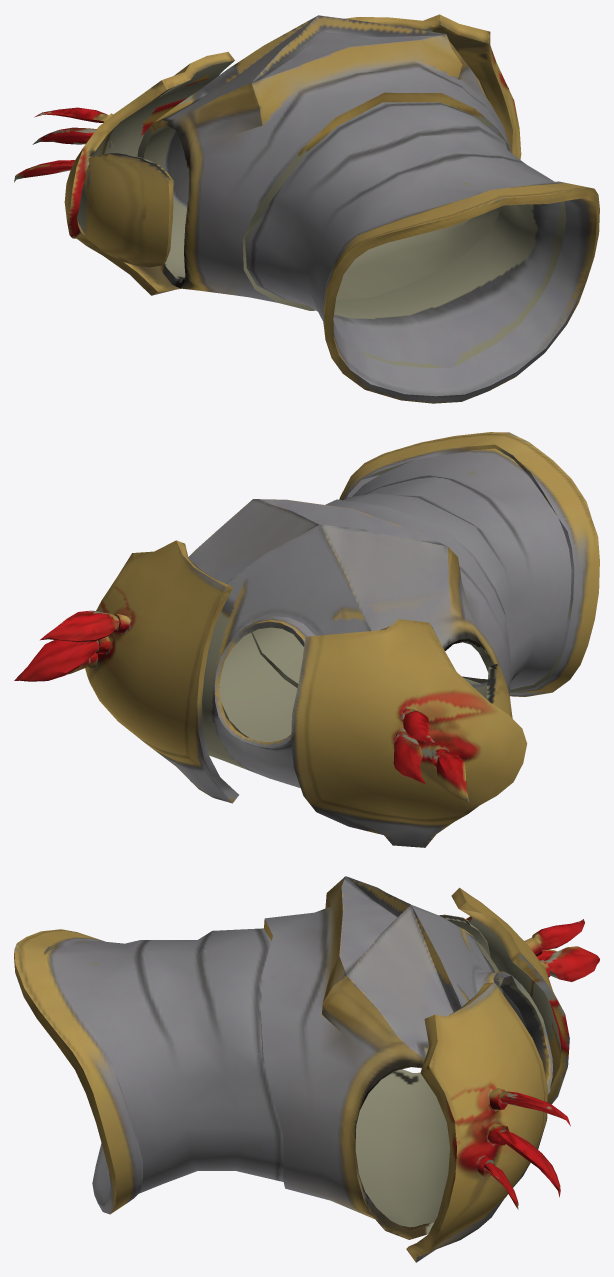
Rendered from item_mm9_10220.glb.
3 views of the same model, one above another, from view 1: azimuth 30°, elevation 25°; view 2: azimuth 150°, elevation 25°; view 3: azimuth 270°, elevation 25° (orthographic). The views are drawn at different scales.
Visible parts, largest first — view 1: d10220; view 2: d10220; view 3: d10220.
Part boxes in pixels (<box>): d10220: <box>14,14,599,403</box>; d10220: <box>14,432,599,847</box>; d10220: <box>14,876,599,1262</box>.
Size of the model in its own units: 1 by 0.5625 by 1.03.
Materials: 1 (1 with a texture image).
